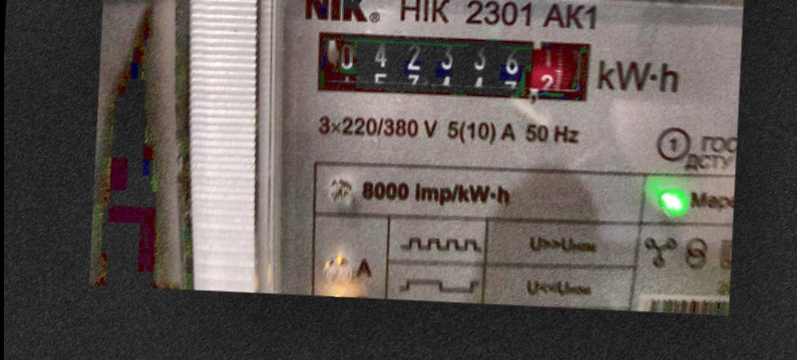0: (337, 42, 355, 70)
1: (541, 45, 554, 68)
2: (405, 41, 423, 71), (538, 71, 555, 90)
3: (470, 41, 487, 72), (438, 41, 454, 70)
4: (372, 38, 390, 68)
6: (503, 45, 522, 75)
screen: (304, 17, 604, 112)
